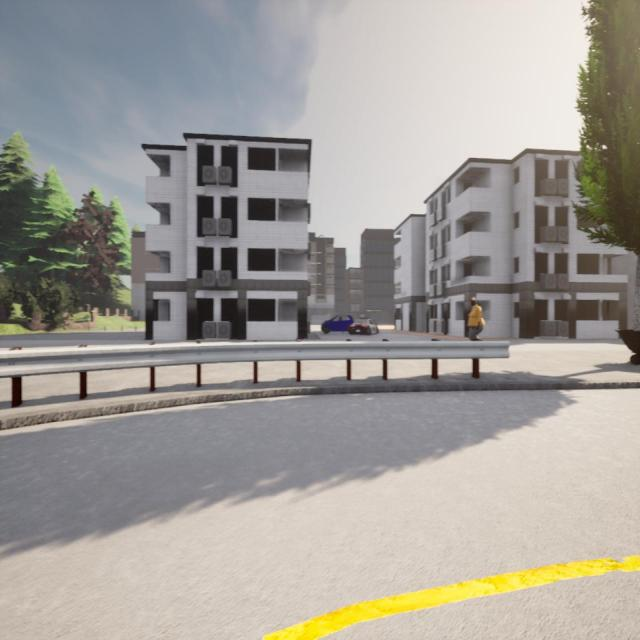Pedestrian: (468, 297, 484, 340)
Vehicle: (321, 315, 353, 334), (347, 318, 380, 334)
